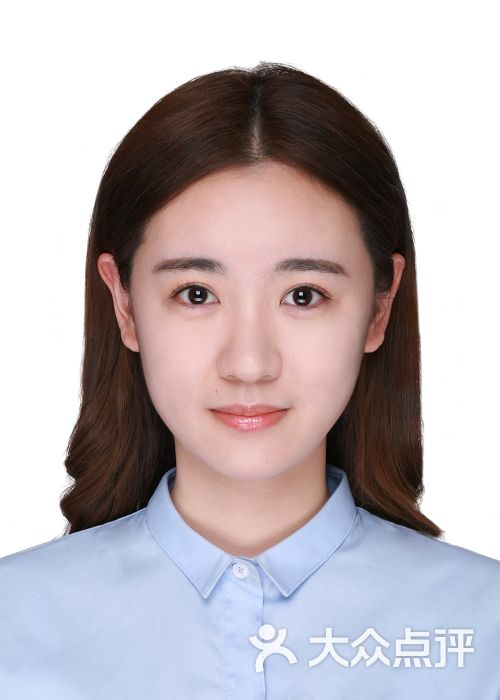unmask: (135, 190, 369, 464)
